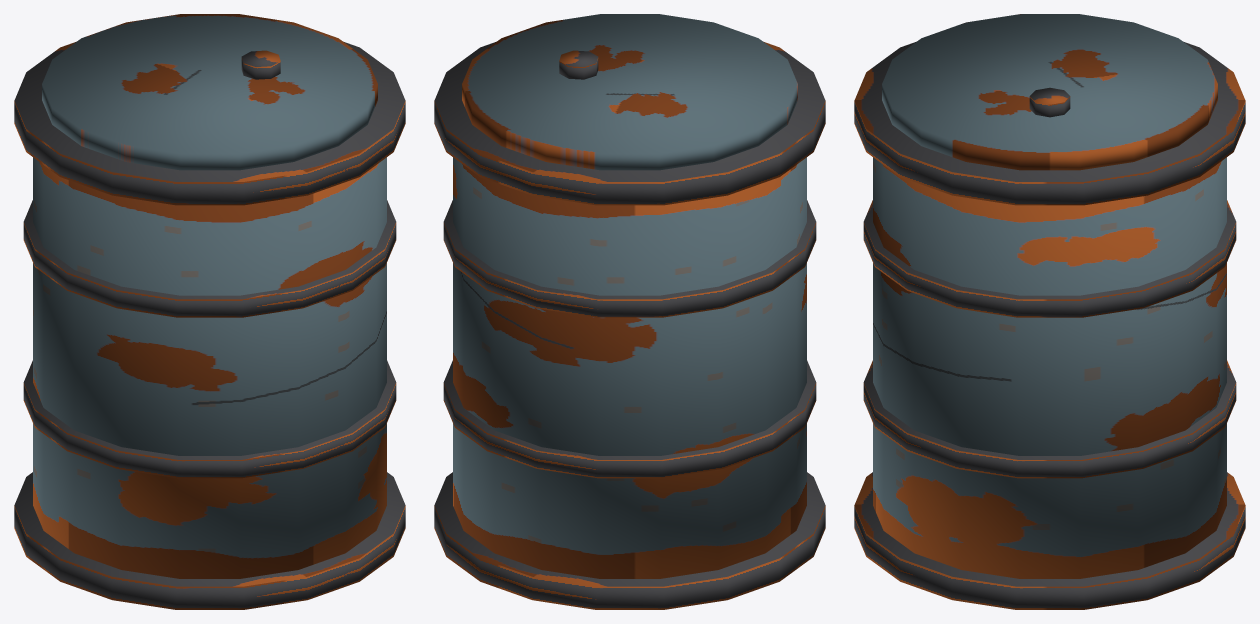
Rendered from oil_drum.glb.
3 views of the same model, side by side, from view 1: azimuth 30°, elevation 25°; view 2: azimuth 150°, elevation 25°; view 3: azimuth 270°, elevation 25° (orthographic).
Visible parts, largest first — view 1: DrumBody, DrumLid, DrumRimTop, DrumRimBot, DrumBandB, DrumBandA, DrumBung; view 2: DrumBody, DrumLid, DrumRimTop, DrumRimBot, DrumBandB, DrumBandA, DrumBung; view 3: DrumBody, DrumLid, DrumRimTop, DrumRimBot, DrumBandB, DrumBandA, DrumBung.
Part boxes in pixels (left/top/right/bottom): DrumBody: left=33, top=157, right=386, bottom=578; DrumLid: left=42, top=14, right=377, bottom=170; DrumRimTop: left=14, top=41, right=405, bottom=205; DrumRimBot: left=14, top=472, right=405, bottom=609; DrumBandB: left=23, top=200, right=396, bottom=317; DrumBandA: left=23, top=360, right=396, bottom=478; DrumBung: left=241, top=50, right=280, bottom=79; DrumBody: left=453, top=157, right=806, bottom=578; DrumLid: left=462, top=14, right=797, bottom=170; DrumRimTop: left=434, top=41, right=825, bottom=205; DrumRimBot: left=434, top=472, right=825, bottom=609; DrumBandB: left=443, top=200, right=816, bottom=317; DrumBandA: left=443, top=360, right=816, bottom=478; DrumBung: left=559, top=50, right=598, bottom=79; DrumBody: left=873, top=157, right=1226, bottom=578; DrumLid: left=882, top=14, right=1217, bottom=170; DrumRimTop: left=854, top=41, right=1245, bottom=205; DrumRimBot: left=854, top=472, right=1245, bottom=609; DrumBandB: left=863, top=200, right=1236, bottom=317; DrumBandA: left=863, top=360, right=1236, bottom=478; DrumBung: left=1029, top=87, right=1070, bottom=117.
Size of the model in its own units: 1.04 by 1.37 by 1.06.
Materials: 7 (7 with a texture image).
